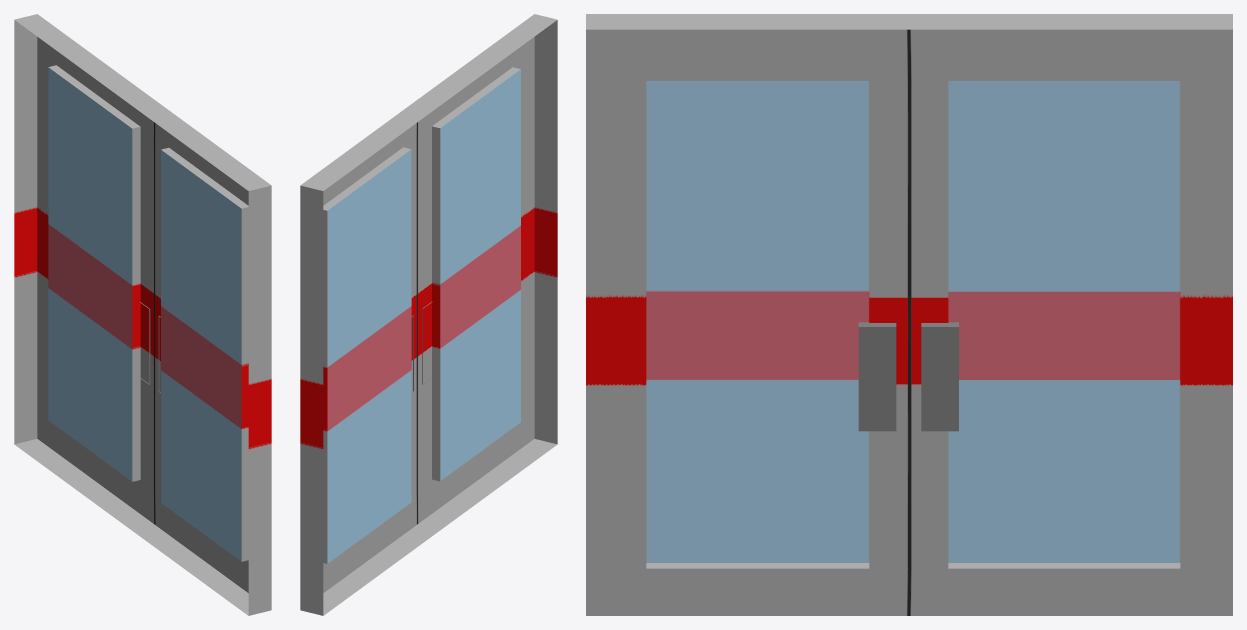
The model's file is Puerta (3).fbx.
3 views of the same model, side by side, from view 1: azimuth 30°, elevation 25°; view 2: azimuth 150°, elevation 25°; view 3: azimuth 270°, elevation 25° (orthographic). The views are drawn at different scales.
Parts seen in each view (by area): view 1: Puerta; view 2: Puerta; view 3: Puerta.
Part boxes in pixels (x1=…): Puerta: x1=14, y1=14, x2=271, y2=615; Puerta: x1=300, y1=14, x2=557, y2=615; Puerta: x1=586, y1=14, x2=1232, y2=615.
Bounding box in the file's own units: 0.172 × 2.4 × 2.4.
